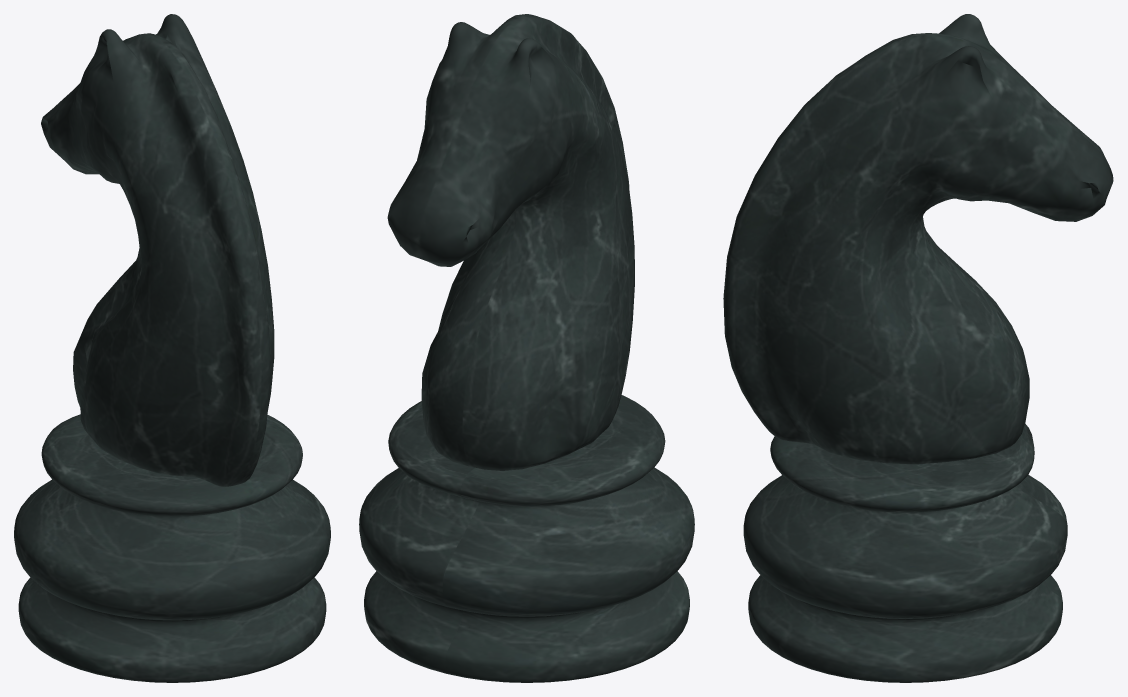
The model's file is B_Knight.glb.
The picture shows the model from 3 angles, left to right: view 1: azimuth 30°, elevation 25°; view 2: azimuth 150°, elevation 25°; view 3: azimuth 270°, elevation 25°; orthographic projection. The views are drawn at different scales.
Visible parts, largest first — view 1: Knight_B1; view 2: Knight_B1; view 3: Knight_B1.
Boxes of the visible parts, x1,y1,x2,y2 form: Knight_B1: [14, 14, 330, 682]; Knight_B1: [359, 14, 694, 682]; Knight_B1: [723, 14, 1113, 682].
Size of the model in its own units: 0.05 by 0.1001 by 0.0602.
Materials: 1 (1 with a texture image).
